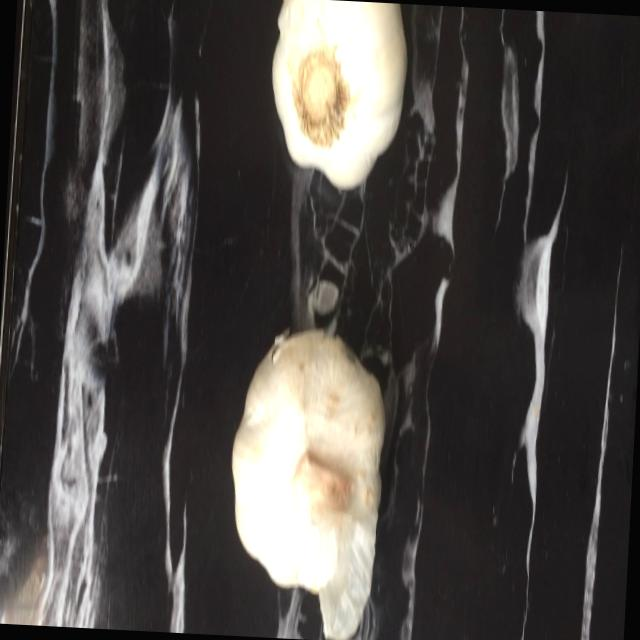garlic: (216, 313, 396, 640), (247, 0, 424, 196)
